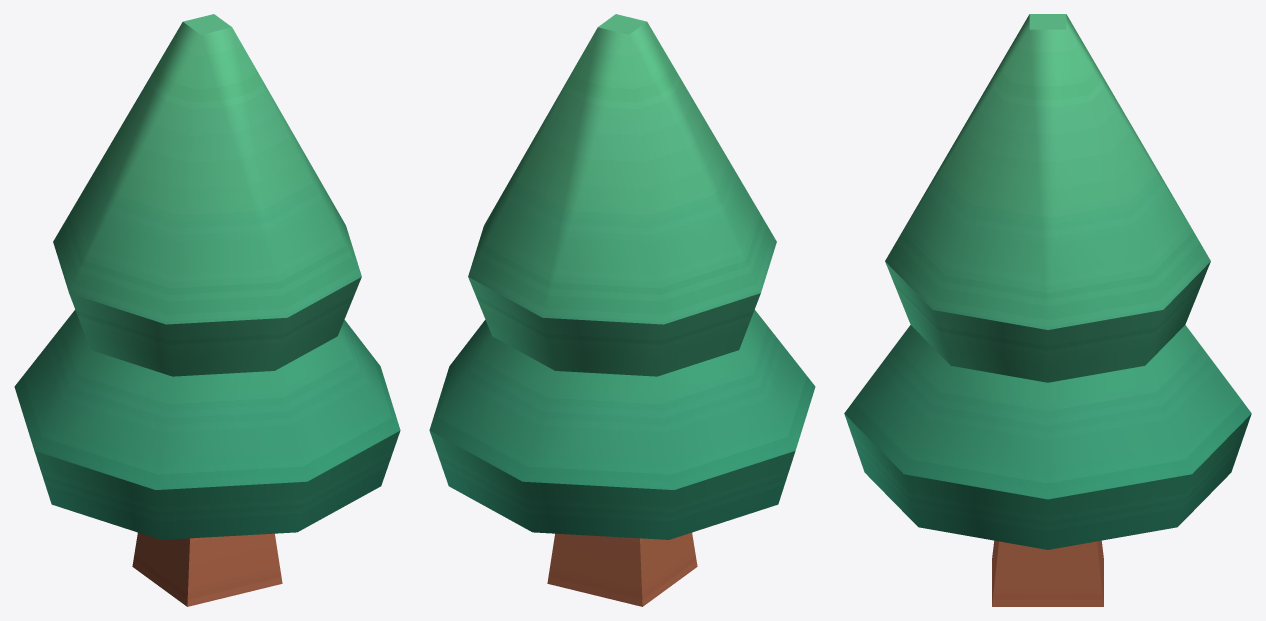
Rendered from detail-tree-large.glb.
3 renders of one model, left to right at view 1: azimuth 30°, elevation 25°; view 2: azimuth 150°, elevation 25°; view 3: azimuth 270°, elevation 25°, orthographic.
Parts seen in each view (by area): view 1: detail-tree-large; view 2: detail-tree-large; view 3: detail-tree-large.
Part boxes in pixels (x1,y1,x2,y2): detail-tree-large: (14, 14, 400, 606); detail-tree-large: (429, 14, 815, 606); detail-tree-large: (844, 14, 1251, 606).
Size of the model in its own units: 0.5 by 0.76 by 0.5.
1 material, 1 textured.
